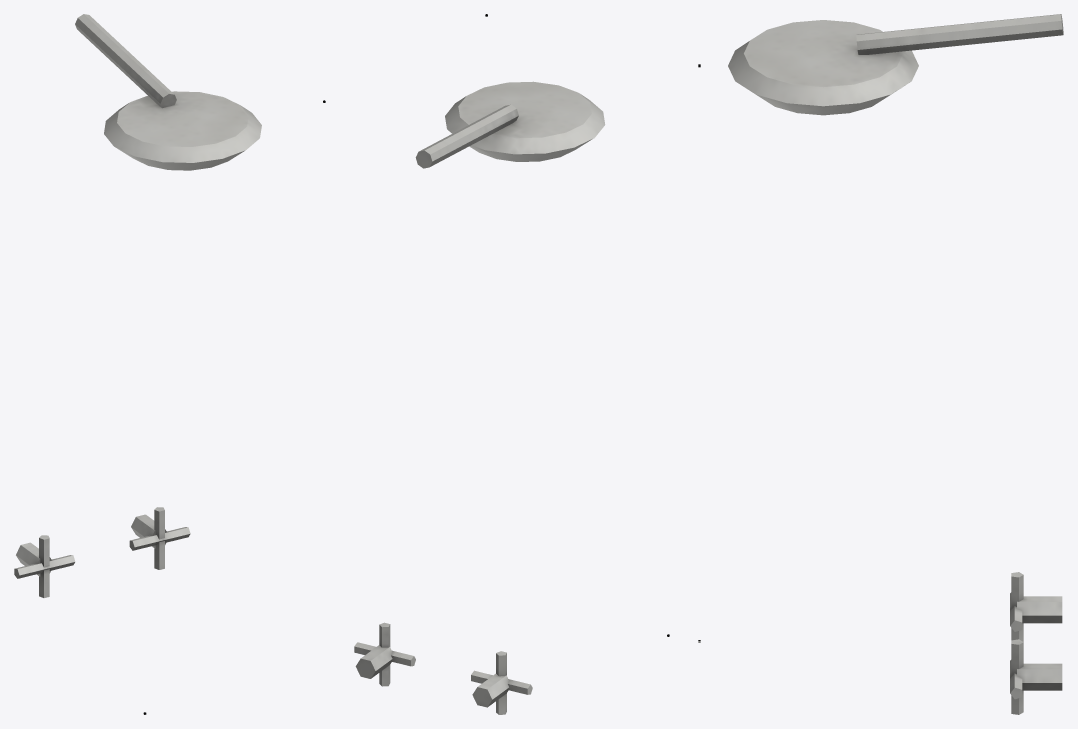
Rendered from H_ShowerSet.fbx.
The picture shows the model from 3 angles, left to right: view 1: azimuth 30°, elevation 25°; view 2: azimuth 150°, elevation 25°; view 3: azimuth 270°, elevation 25°; orthographic projection. The views are drawn at different scales.
Visible parts, largest first — view 1: H_ShowerSet; view 2: H_ShowerSet; view 3: H_ShowerSet.
Part boxes in pixels (box(x1,y1,x2,y2)): H_ShowerSet: box(14, 14, 325, 714); H_ShowerSet: box(354, 14, 669, 714); H_ShowerSet: box(698, 14, 1063, 714).
Size of the model in its own units: 110 by 331 by 161.
Materials: 1 (1 with a texture image).
